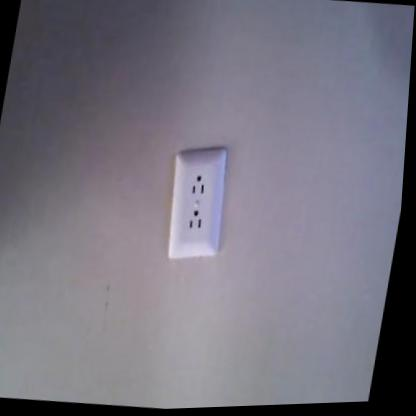OUTLET: (158, 143, 234, 264)
